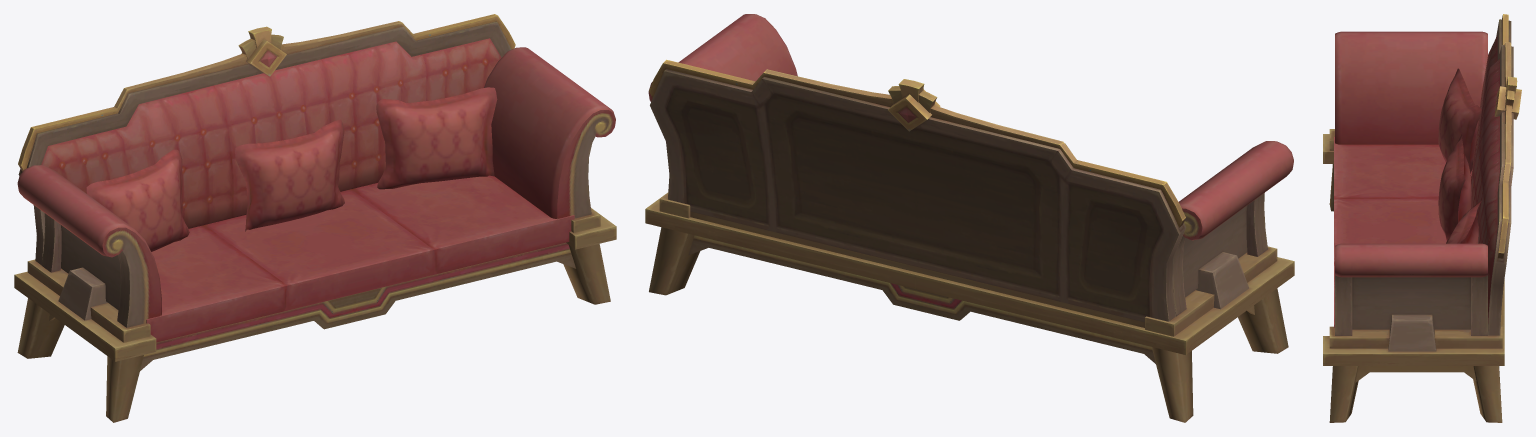
Rendered from Homeworld_Interior_Fd_Chair_Prop_DyzShafa_01_Vo.fbx.
The picture shows the model from 3 angles, left to right: view 1: azimuth 30°, elevation 25°; view 2: azimuth 150°, elevation 25°; view 3: azimuth 270°, elevation 25°; orthographic projection. The views are drawn at different scales.
Parts seen in each view (by area): view 1: Indoor_Fd_Prop_Chair_A_05_Vo; view 2: Indoor_Fd_Prop_Chair_A_05_Vo; view 3: Indoor_Fd_Prop_Chair_A_05_Vo.
Part boxes in pixels (box(x1,y1,x2,y2)): Indoor_Fd_Prop_Chair_A_05_Vo: box(14, 14, 616, 422); Indoor_Fd_Prop_Chair_A_05_Vo: box(645, 14, 1294, 422); Indoor_Fd_Prop_Chair_A_05_Vo: box(1323, 14, 1521, 422).
Bounding box in the file's own units: 3.02 × 1.45 × 1.12.
Materials: 1 (1 with a texture image).
